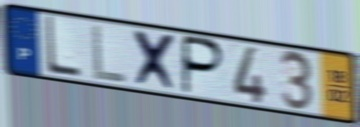3: (278, 48, 315, 114)
4: (231, 45, 269, 106)
L: (43, 14, 83, 80), (90, 22, 129, 86)
P: (180, 33, 227, 97)
X: (131, 28, 180, 94)
